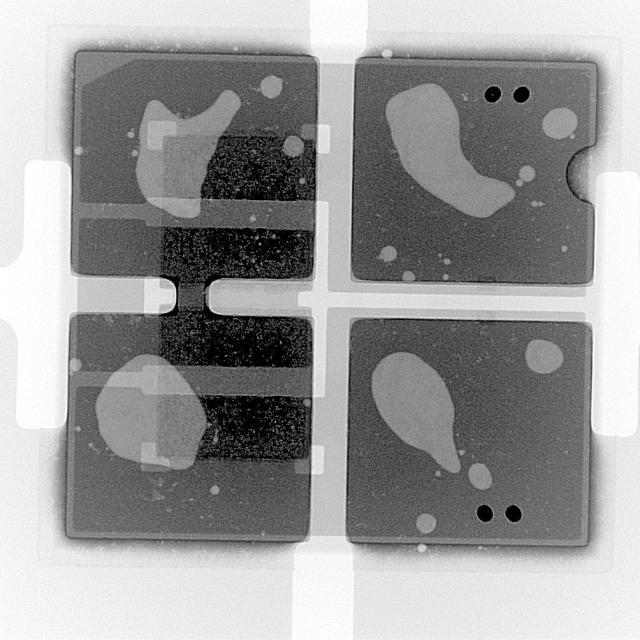chip: (64, 47, 598, 546)
void: (385, 84, 514, 218), (135, 89, 240, 218), (96, 355, 206, 471), (372, 352, 460, 472), (525, 339, 563, 374), (542, 108, 577, 139), (468, 463, 491, 490), (258, 75, 281, 98), (282, 136, 303, 157), (416, 513, 436, 534), (516, 165, 533, 185), (377, 246, 397, 262), (71, 358, 81, 374), (403, 271, 414, 280)
